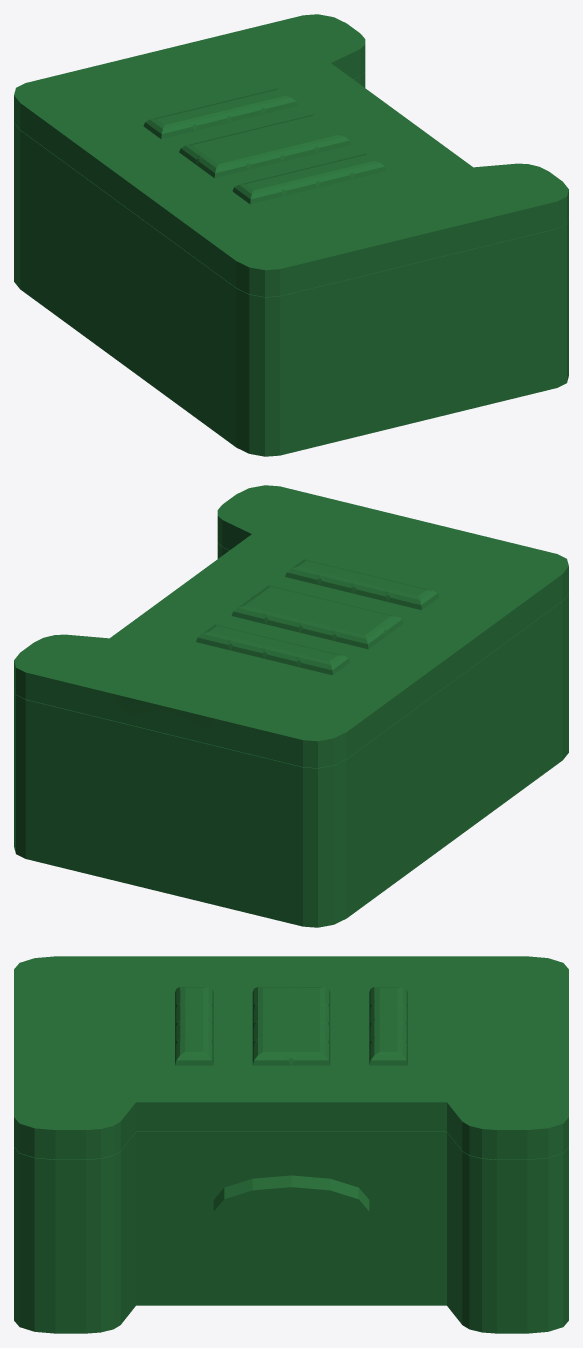
The model's file is Dahl Ammobox.glb.
3 renders of one model, top to bottom at view 1: azimuth 30°, elevation 25°; view 2: azimuth 150°, elevation 25°; view 3: azimuth 270°, elevation 25°, orthographic. The views are drawn at different scales.
Visible parts, largest first — view 1: Ammobox, Ammobox Lid; view 2: Ammobox, Ammobox Lid; view 3: Ammobox Lid, Ammobox.
Part boxes in pixels (x1,y1,x2,y2): Ammobox: (14,72,568,456); Ammobox Lid: (14,14,568,297); Ammobox: (14,543,568,927); Ammobox Lid: (14,485,568,768); Ammobox Lid: (14,956,568,1159); Ammobox: (14,1131,568,1333).
Bounding box in the file's own units: 1.48 × 0.8466 × 2.
Materials: 2 (2 with a texture image).
